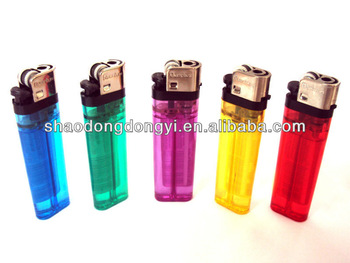Nonrec_Other: (7, 50, 78, 217), (277, 52, 341, 226), (211, 50, 272, 216), (74, 52, 136, 212), (146, 48, 200, 206)
